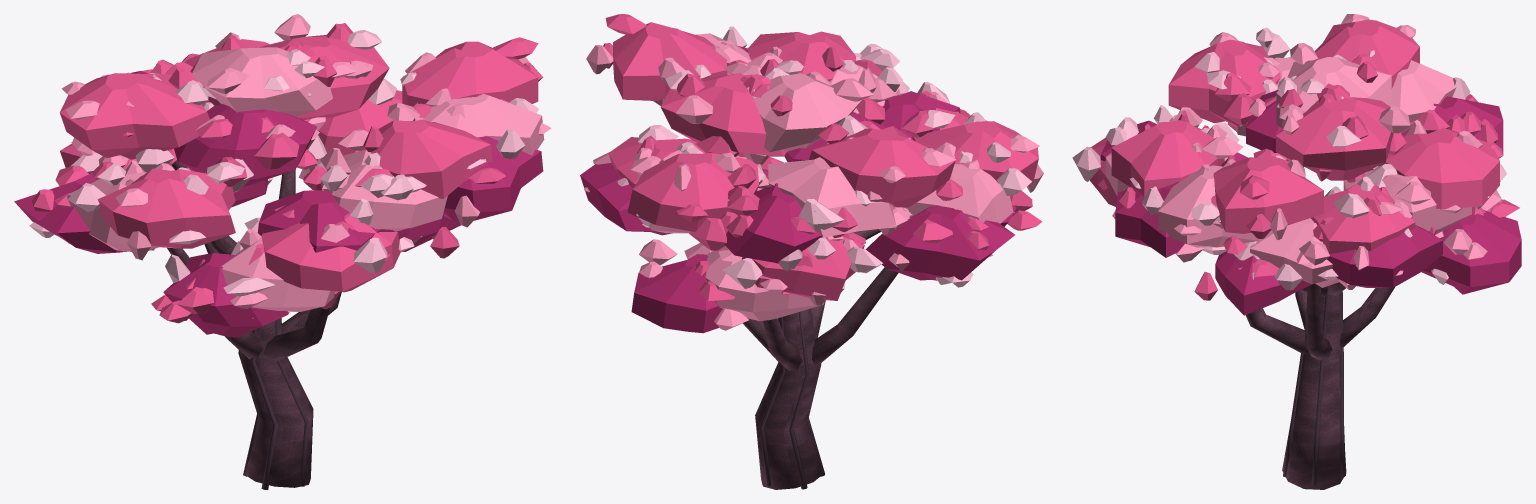
The model's file is ornamental-cherry.glb.
3 renders of one model, left to right at view 1: azimuth 30°, elevation 25°; view 2: azimuth 150°, elevation 25°; view 3: azimuth 270°, elevation 25°, orthographic. The views are drawn at different scales.
Parts seen in each view (by area): view 1: ornamental-cherry · Petal midtone, ornamental-cherry · Petal tip, ornamental-cherry · Petal shadow, ornamental-cherry · Sunlit blush, ornamental-cherry · Cherry bark, ornamental-cherry · Cherry bark ribs; view 2: ornamental-cherry · Petal midtone, ornamental-cherry · Petal tip, ornamental-cherry · Petal shadow, ornamental-cherry · Cherry bark, ornamental-cherry · Sunlit blush, ornamental-cherry · Cherry bark ribs; view 3: ornamental-cherry · Petal midtone, ornamental-cherry · Petal tip, ornamental-cherry · Petal shadow, ornamental-cherry · Cherry bark, ornamental-cherry · Sunlit blush, ornamental-cherry · Cherry bark ribs.
Part boxes in pixels (bbox=[...]): ornamental-cherry · Petal midtone: bbox=[31, 23, 543, 330]; ornamental-cherry · Petal tip: bbox=[61, 14, 551, 312]; ornamental-cherry · Petal shadow: bbox=[14, 71, 543, 337]; ornamental-cherry · Sunlit blush: bbox=[29, 30, 538, 296]; ornamental-cherry · Cherry bark: bbox=[167, 160, 341, 487]; ornamental-cherry · Cherry bark ribs: bbox=[238, 319, 308, 489]; ornamental-cherry · Petal midtone: bbox=[603, 14, 1042, 301]; ornamental-cherry · Petal tip: bbox=[584, 33, 1043, 330]; ornamental-cherry · Petal shadow: bbox=[580, 46, 1016, 333]; ornamental-cherry · Cherry bark: bbox=[742, 229, 898, 489]; ornamental-cherry · Sunlit blush: bbox=[617, 26, 1031, 292]; ornamental-cherry · Cherry bark ribs: bbox=[759, 309, 824, 489]; ornamental-cherry · Petal midtone: bbox=[1089, 19, 1519, 300]; ornamental-cherry · Petal tip: bbox=[1105, 14, 1501, 299]; ornamental-cherry · Petal shadow: bbox=[1101, 90, 1521, 315]; ornamental-cherry · Cherry bark: bbox=[1245, 160, 1394, 489]; ornamental-cherry · Sunlit blush: bbox=[1072, 27, 1506, 290]; ornamental-cherry · Cherry bark ribs: bbox=[1283, 291, 1345, 485].
Bounding box in the file's own units: 6.78 × 6.01 × 6.
Materials: 6 (1 with a texture image).
